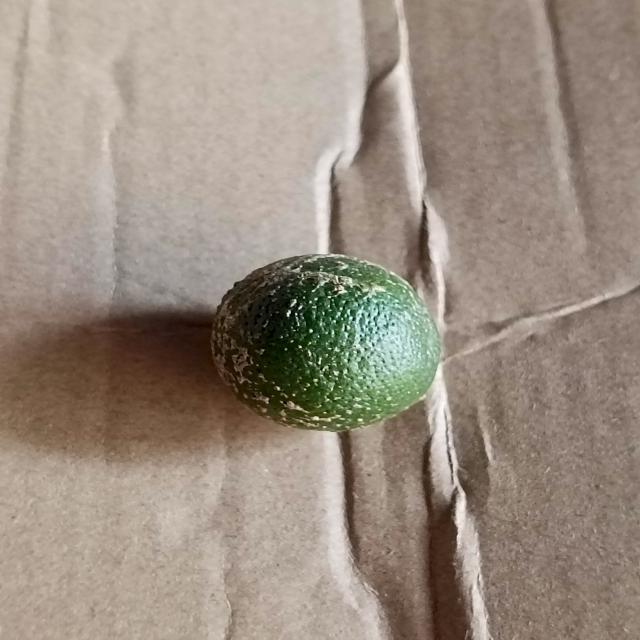scab: (212, 249, 454, 430)
